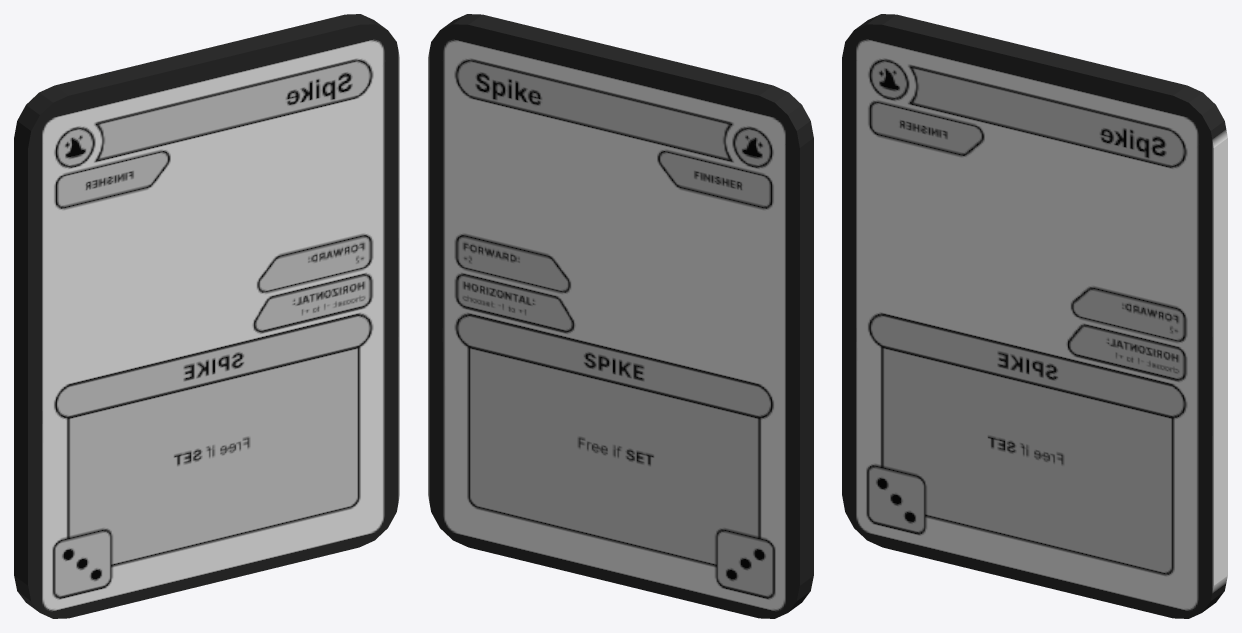
The model's file is card_spike.glb.
3 views of the same model, side by side, from view 1: azimuth 30°, elevation 25°; view 2: azimuth 150°, elevation 25°; view 3: azimuth 330°, elevation 25° (orthographic).
Parts seen in each view (by area): view 1: card_spike; view 2: card_spike; view 3: card_spike.
Part boxes in pixels (box(x1,y1,x2,y2)): card_spike: box(14, 14, 399, 618); card_spike: box(428, 14, 813, 618); card_spike: box(842, 14, 1227, 618).
Size of the model in its own units: 0.4578 by 0.615 by 0.03.
1 material, 1 textured.
